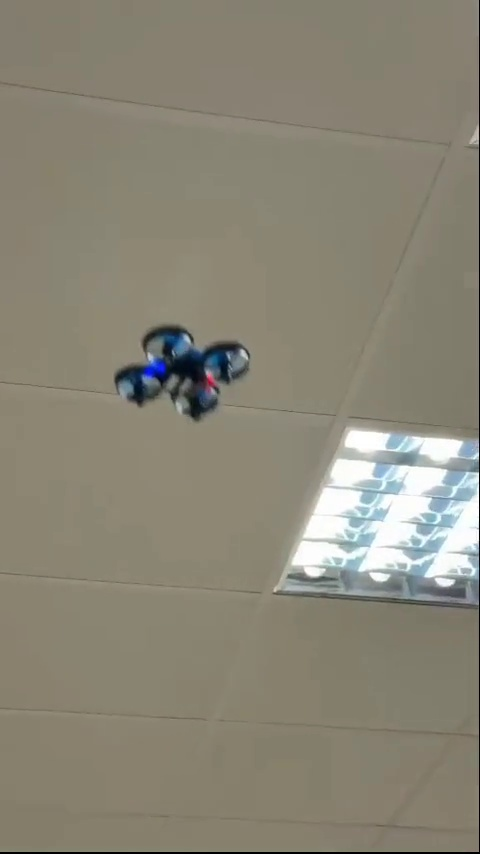drone: (110, 321, 252, 425)
